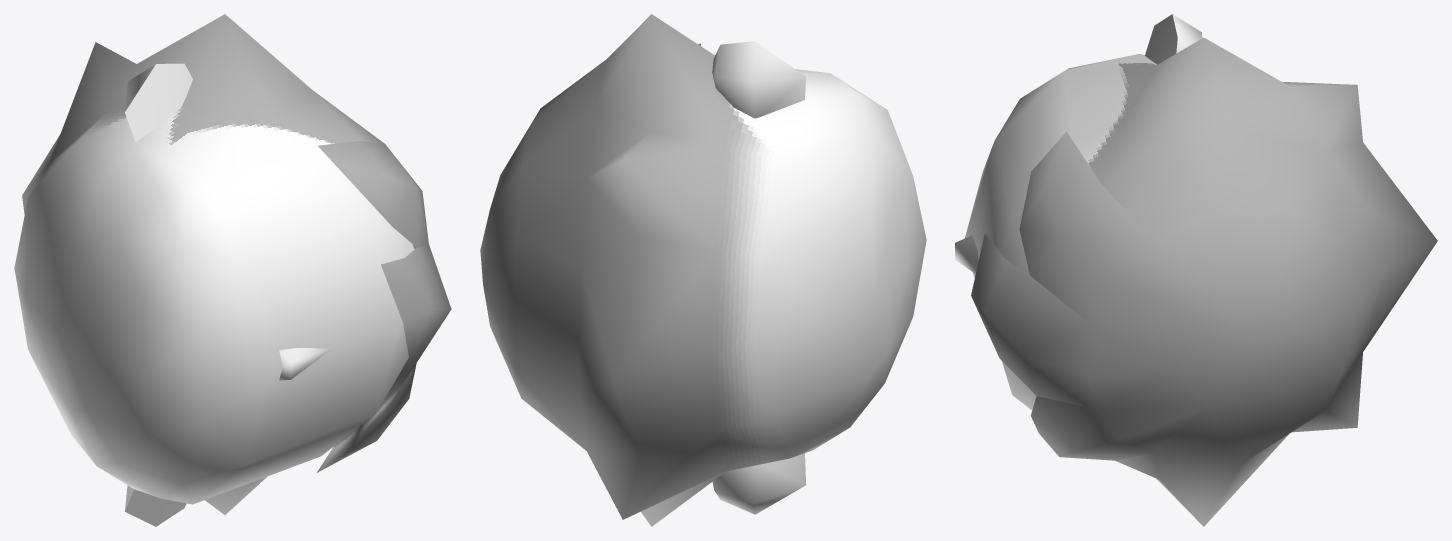
Rendered from boy11a.dae.
3 renders of one model, left to right at view 1: azimuth 30°, elevation 25°; view 2: azimuth 150°, elevation 25°; view 3: azimuth 270°, elevation 25°, orthographic. The views are drawn at different scales.
Parts seen in each view (by area): view 1: boy11a; view 2: boy11a; view 3: boy11a.
Part boxes in pixels (x1,y1,x2,y2): boy11a: [14, 14, 451, 526]; boy11a: [480, 14, 926, 526]; boy11a: [955, 14, 1437, 526].
Bounding box in the file's own units: 21.29 × 28.92 × 25.86.
Materials: 3 (1 with a texture image).
